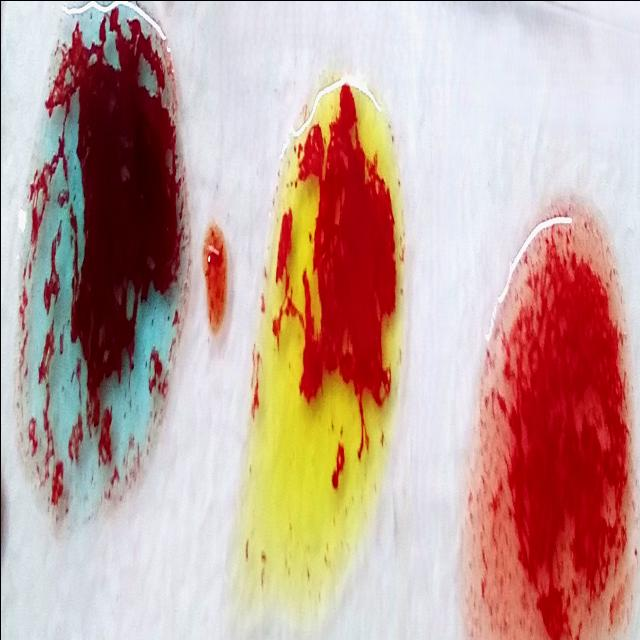A: (22, 24, 182, 542)
B: (235, 94, 402, 640)
D: (466, 209, 634, 640)
